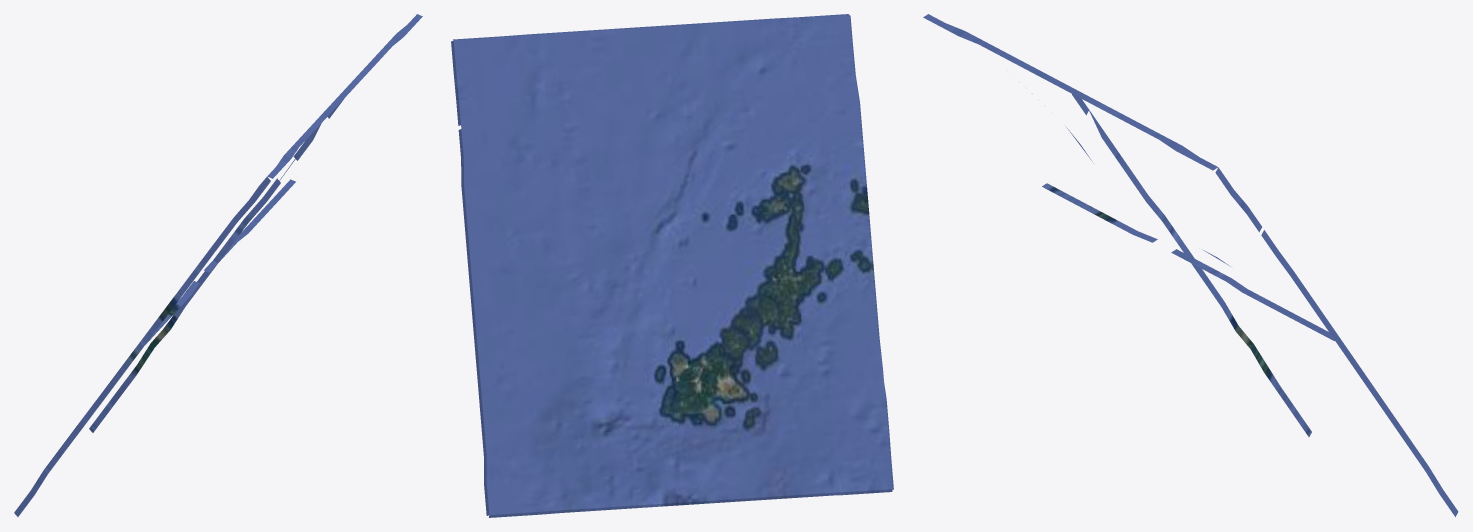
3 views of the same model, side by side, from view 1: azimuth 30°, elevation 25°; view 2: azimuth 150°, elevation 25°; view 3: azimuth 270°, elevation 25° (orthographic). The views are drawn at different scales.
Size of the model in its own units: 157889 by 133324 by 150804.
Materials: 1 (1 with a texture image).
